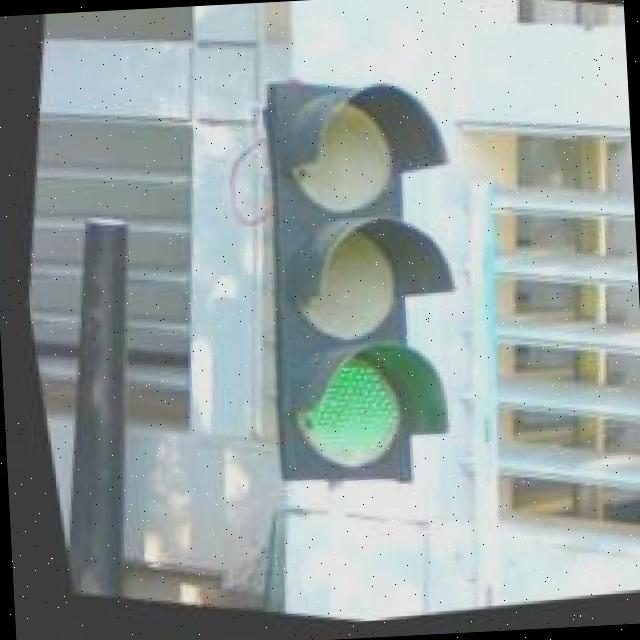green_light: (180, 57, 516, 516)
